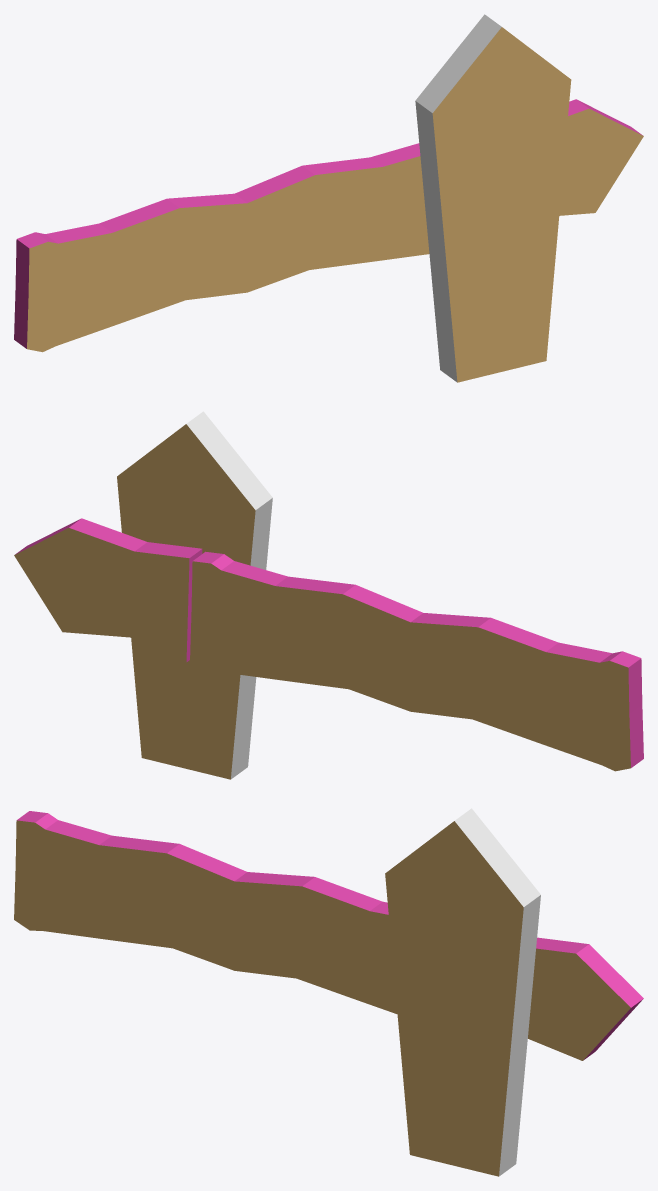
The model's file is Fence.fbx.
3 renders of one model, top to bottom at view 1: azimuth 30°, elevation 25°; view 2: azimuth 150°, elevation 25°; view 3: azimuth 330°, elevation 25°, orthographic.
Parts seen in each view (by area): view 1: FenceBridge, FenceStick, FenceEdge; view 2: FenceBridge, FenceStick, FenceEdge; view 3: FenceStick, FenceBridge, FenceEdge.
Boxes of the visible parts, <box> form: FenceBridge: <box>14,143,429,352</box>; FenceStick: <box>415,14,571,382</box>; FenceEdge: <box>559,99,643,215</box>; FenceBridge: <box>190,551,643,771</box>; FenceStick: <box>117,411,272,779</box>; FenceEdge: <box>14,518,202,662</box>; FenceStick: <box>385,808,540,1176</box>; FenceBridge: <box>14,811,397,1014</box>; FenceEdge: <box>528,937,643,1060</box>.
Size of the model in its own units: 1386 by 740 by 118.
